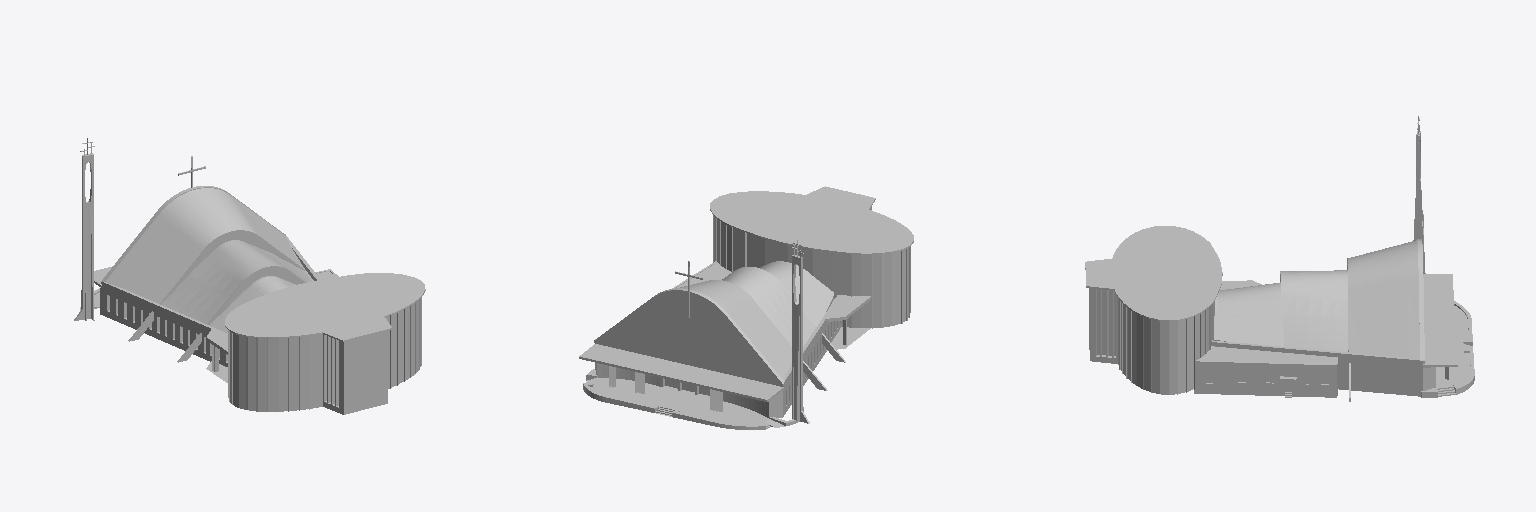
File: ES_CYL_VCY_santamarinavillarcayo.obj
3 renders of one model, left to right at view 1: azimuth 30°, elevation 25°; view 2: azimuth 150°, elevation 25°; view 3: azimuth 270°, elevation 25°, orthographic.
Visible parts, largest first — view 1: SketchUp.412_ID1779, group_3_ID26, group_1_ID10, SketchUp.409_ID1755, SketchUp.002_ID334, instance_0.001_ID79, SketchUp.535_ID2700, SketchUp.019_ID495, group_2_ID19, SketchUp.411_ID1771, SketchUp.015_ID453, SketchUp.453_ID2091 (+7 smaller); view 2: SketchUp.412_ID1779, SketchUp.521_ID2592, SketchUp.514_ID2532, SketchUp.356_ID1254, group_3_ID26, group_1_ID10, SketchUp.036_ID653, group_2_ID19, instance_0.001_ID79, SketchUp.002_ID334, SketchUp.004_ID350, SketchUp.448_ID2051 (+2 smaller); view 3: SketchUp.412_ID1779, group_3_ID26, SketchUp_ID313, group_1_ID10, group_2_ID19, SketchUp.514_ID2532, SketchUp.336_ID1115, SketchUp.356_ID1254, SketchUp.409_ID1755, SketchUp.440_ID1984, instance_0.001_ID79, SketchUp.351_ID1224.
Boxes of the visible parts, x1=… form: SketchUp.412_ID1779: x1=225, y1=273, x2=425, y2=340; group_3_ID26: x1=106, y1=188, x2=304, y2=303; group_1_ID10: x1=161, y1=241, x2=311, y2=323; SketchUp.409_ID1755: x1=344, y1=316, x2=389, y2=414; SketchUp.002_ID334: x1=100, y1=282, x2=227, y2=366; instance_0.001_ID79: x1=74, y1=153, x2=94, y2=320; SketchUp.535_ID2700: x1=323, y1=334, x2=343, y2=414; SketchUp.019_ID495: x1=128, y1=230, x2=304, y2=341; group_2_ID19: x1=209, y1=277, x2=294, y2=332; SketchUp.411_ID1771: x1=310, y1=334, x2=322, y2=408; SketchUp.015_ID453: x1=177, y1=266, x2=305, y2=362; SketchUp.453_ID2091: x1=257, y1=338, x2=266, y2=411; SketchUp.412_ID1779: x1=710, y1=186, x2=913, y2=253; SketchUp.521_ID2592: x1=602, y1=292, x2=776, y2=384; SketchUp.514_ID2532: x1=579, y1=344, x2=783, y2=401; SketchUp.356_ID1254: x1=586, y1=377, x2=785, y2=428; group_3_ID26: x1=680, y1=280, x2=791, y2=379; group_1_ID10: x1=722, y1=267, x2=815, y2=346; SketchUp.036_ID653: x1=747, y1=233, x2=833, y2=291; group_2_ID19: x1=760, y1=262, x2=833, y2=325; instance_0.001_ID79: x1=792, y1=255, x2=809, y2=423; SketchUp.002_ID334: x1=783, y1=253, x2=850, y2=416; SketchUp.004_ID350: x1=826, y1=295, x2=870, y2=321; SketchUp.448_ID2051: x1=873, y1=254, x2=882, y2=327; SketchUp.412_ID1779: x1=1085, y1=226, x2=1222, y2=319; group_3_ID26: x1=1348, y1=240, x2=1419, y2=359; SketchUp_ID313: x1=1194, y1=303, x2=1422, y2=397; group_1_ID10: x1=1283, y1=270, x2=1348, y2=352; group_2_ID19: x1=1214, y1=283, x2=1280, y2=346; SketchUp.514_ID2532: x1=1423, y1=274, x2=1457, y2=367; SketchUp.336_ID1115: x1=1198, y1=346, x2=1335, y2=363; SketchUp.356_ID1254: x1=1436, y1=306, x2=1472, y2=396; SketchUp.409_ID1755: x1=1089, y1=288, x2=1118, y2=364; SketchUp.440_ID1984: x1=1152, y1=320, x2=1160, y2=393; instance_0.001_ID79: x1=1413, y1=131, x2=1425, y2=273; SketchUp.351_ID1224: x1=1417, y1=239, x2=1424, y2=360.
Bounding box in the file's own units: 34.28 × 26.89 × 51.8.